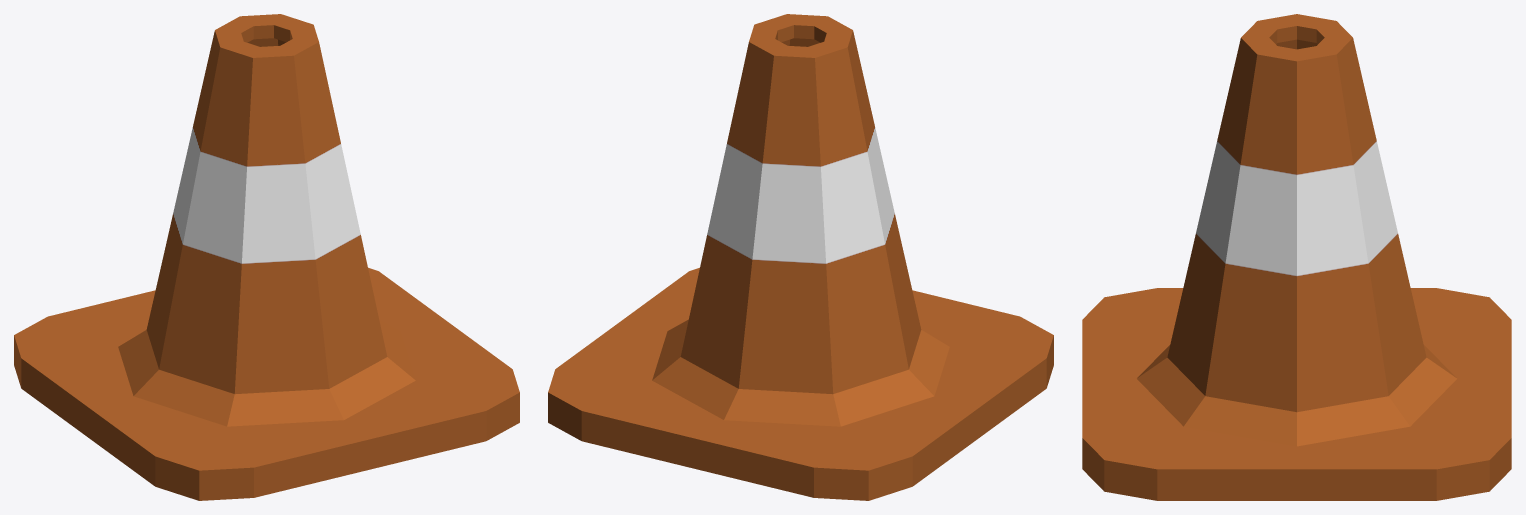
The picture shows the model from 3 angles, left to right: view 1: azimuth 30°, elevation 25°; view 2: azimuth 150°, elevation 25°; view 3: azimuth 270°, elevation 25°; orthographic projection. The views are drawn at different scales.
Parts seen in each view (by area): view 1: model; view 2: model; view 3: model.
Boxes of the visible parts, x1=… form: model: x1=14, y1=14, x2=519, y2=500; model: x1=548, y1=14, x2=1053, y2=500; model: x1=1082, y1=14, x2=1511, y2=500.
Size of what is drawn, in the model's own units: 0.6069 by 0.5812 by 0.6069.
1 material, 1 textured.
